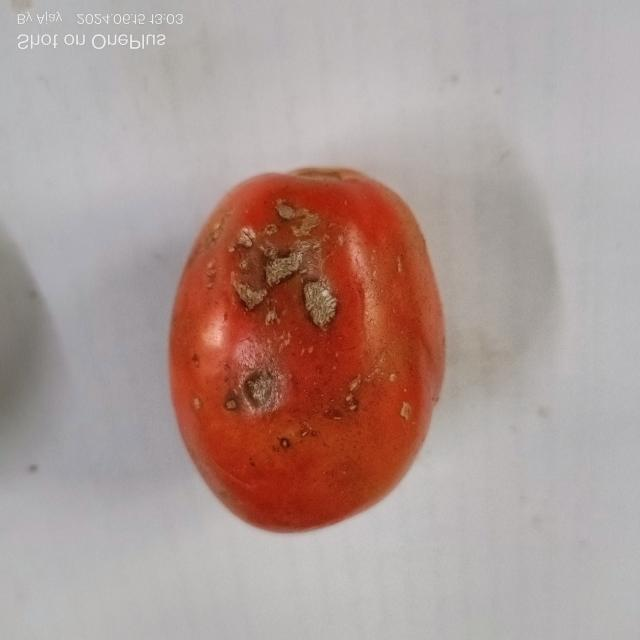Bacterial_Spot: (224, 338, 283, 416), (300, 278, 338, 330), (227, 280, 269, 311), (266, 249, 300, 278), (229, 225, 255, 253), (345, 377, 362, 412), (276, 202, 296, 224), (305, 251, 321, 275), (294, 225, 310, 238), (400, 401, 410, 421), (280, 436, 288, 451)
